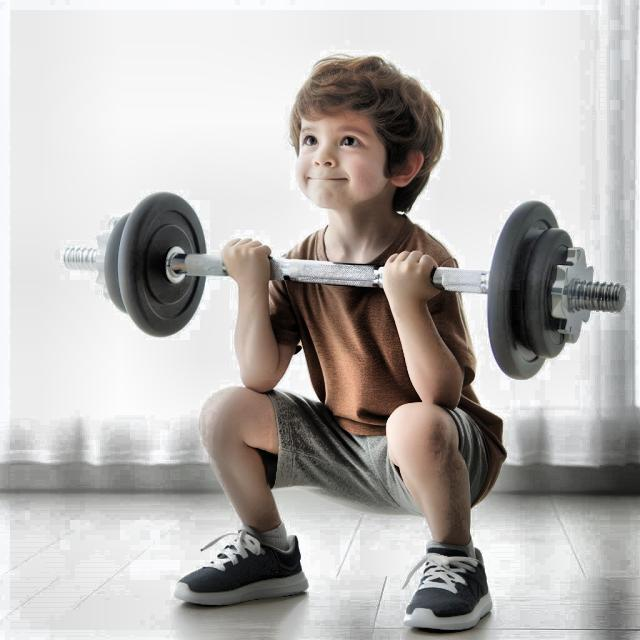Human: (172, 34, 516, 640)
